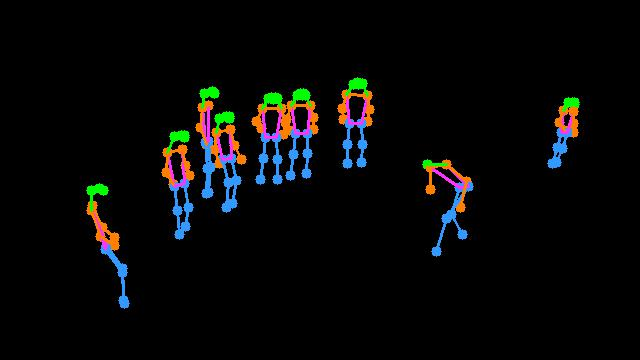normal: (191, 84, 251, 216), (157, 124, 199, 246)
